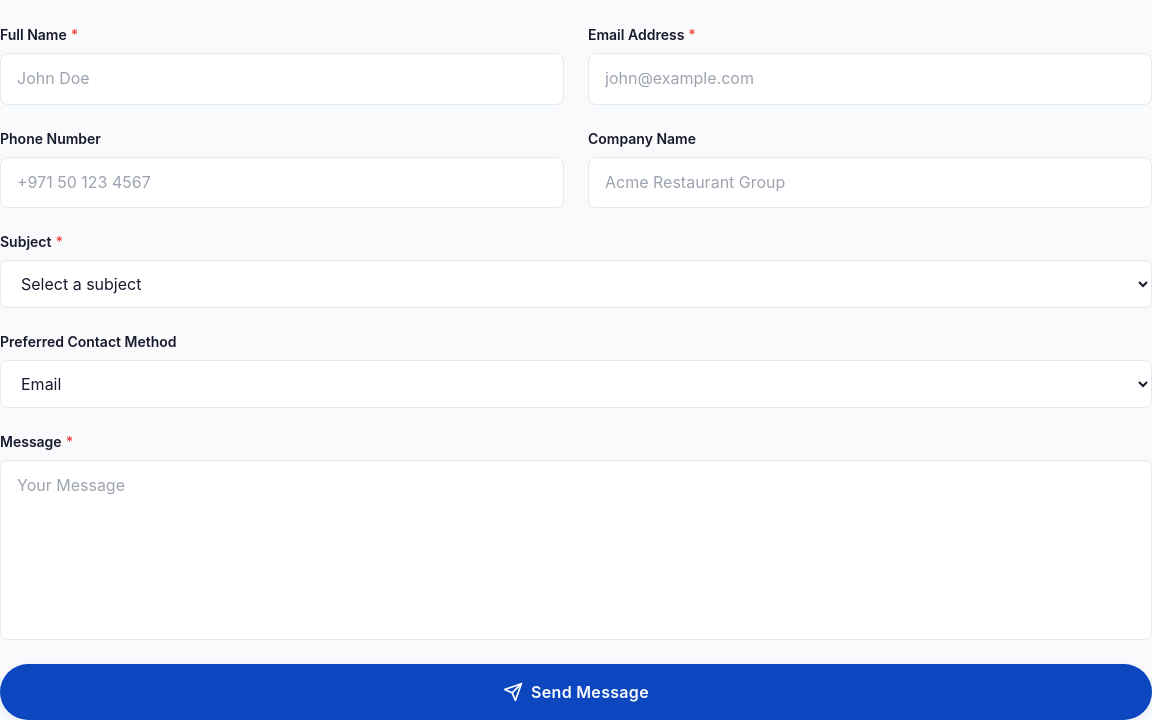
Test case: ContactForm Component › Field Validation › shows validation error for empty name field
The image size is (1152, 720).
(page scrolled)
What coordinates should you click on to do the following:
click the button "Send Message"
I would click on:
 (576, 692)
Its box is [0,664,1151,719].
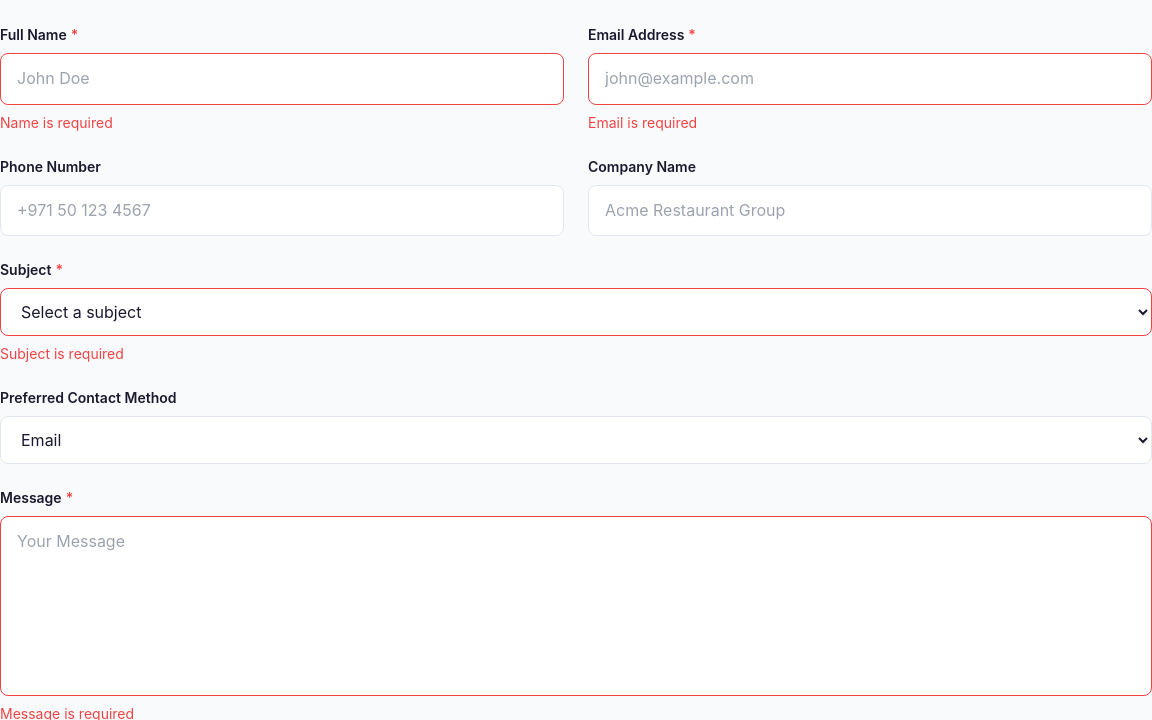
Check: the text "Name is required" is shown, box [0,114,113,131]
